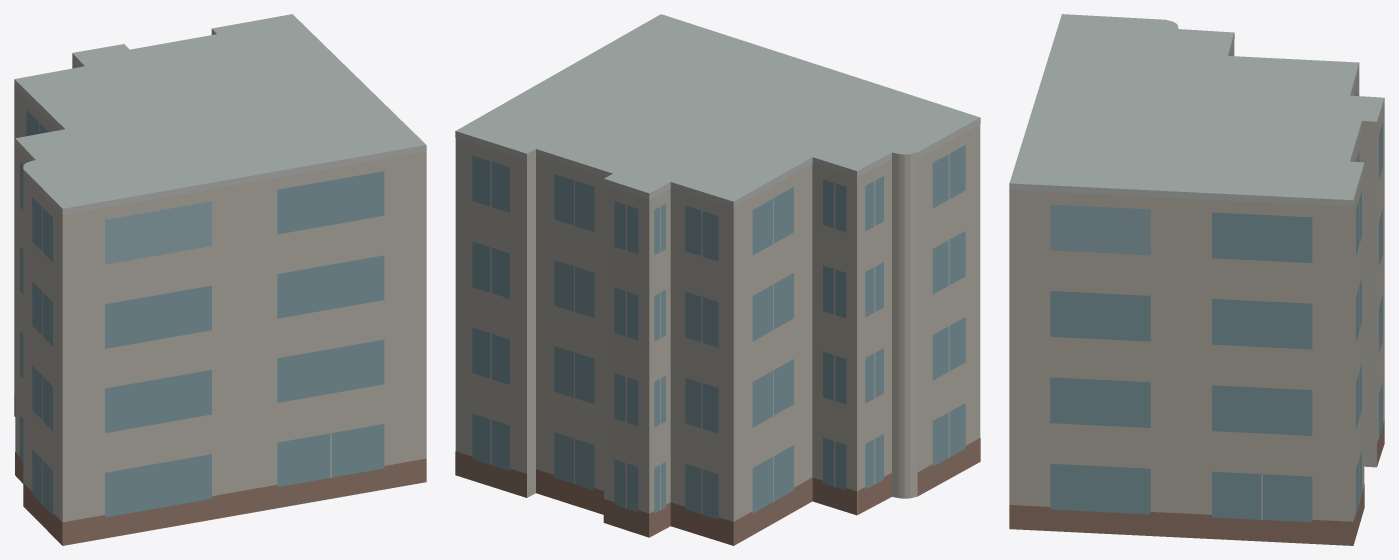
File: survey-upis-32662588.glb
3 renders of one model, left to right at view 1: azimuth 30°, elevation 25°; view 2: azimuth 150°, elevation 25°; view 3: azimuth 270°, elevation 25°, orthographic. The views are drawn at different scales.
Parts seen in each view (by area): view 1: survey-upis-32662588.tmp; view 2: survey-upis-32662588.tmp; view 3: survey-upis-32662588.tmp.
Part boxes in pixels (bbox=[...]): survey-upis-32662588.tmp: bbox=[14, 14, 426, 545]; survey-upis-32662588.tmp: bbox=[455, 14, 980, 545]; survey-upis-32662588.tmp: bbox=[1009, 14, 1384, 545].
Size of the model in its own units: 14.8 by 12.8 by 12.6.
